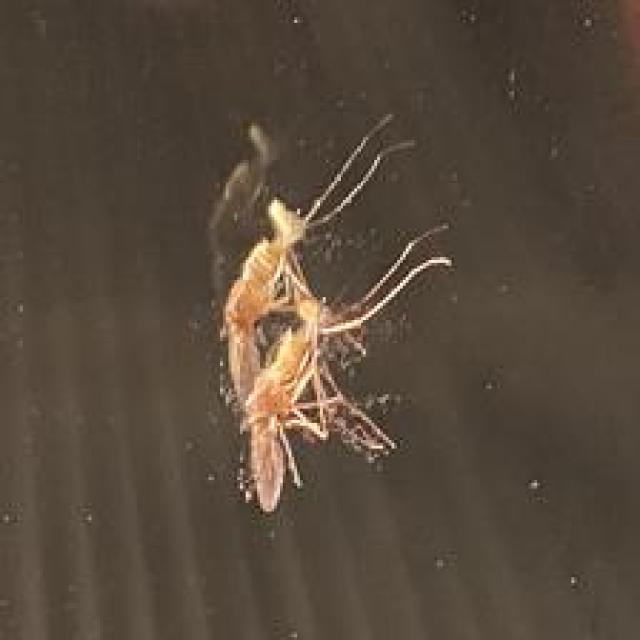Culex: (206, 110, 454, 516)
